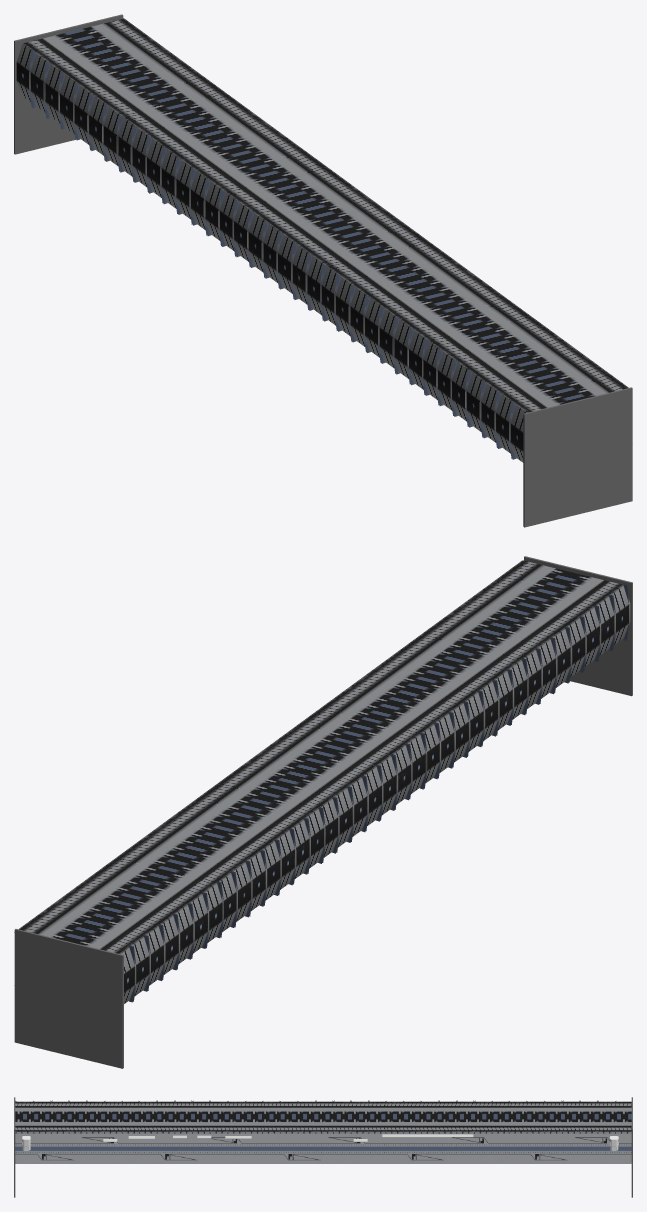
The model's file is cenario2.fbx.
3 renders of one model, top to bottom at view 1: azimuth 30°, elevation 25°; view 2: azimuth 150°, elevation 25°; view 3: azimuth 270°, elevation 25°, orthographic. The views are drawn at different scales.
Visible parts, largest first — view 1: block:block_lvl2_block_lvl2.001, block:block_lvl2_block_lvl2.002, block:block_lvl2_block_lvl2.003, block:block_lvl2_block_lvl2.004, block:block_lvl2_block_lvl2, Cube.006, Cube.007; view 2: block:block_lvl2_block_lvl2.002, block:block_lvl2_block_lvl2.003, block:block_lvl2_block_lvl2.001, block:block_lvl2_block_lvl2, block:block_lvl2_block_lvl2.004, Cube.007, Cube.006; view 3: block:block_lvl2_block_lvl2.003, block:block_lvl2_block_lvl2.004, block:block_lvl2_block_lvl2, block:block_lvl2_block_lvl2.002, block:block_lvl2_block_lvl2.001, Cube.002, Cube.006, Cube.007.
Part boxes in pixels (<box>): block:block_lvl2_block_lvl2.001: <box>321,242,530,395</box>; block:block_lvl2_block_lvl2.002: <box>118,93,327,246</box>; block:block_lvl2_block_lvl2.003: <box>220,167,429,321</box>; block:block_lvl2_block_lvl2.004: <box>16,18,225,172</box>; block:block_lvl2_block_lvl2: <box>423,316,628,462</box>; Cube.006: <box>523,387,632,527</box>; Cube.007: <box>14,14,123,154</box>; block:block_lvl2_block_lvl2.002: <box>116,783,325,931</box>; block:block_lvl2_block_lvl2.003: <box>218,709,427,857</box>; block:block_lvl2_block_lvl2.001: <box>320,634,528,782</box>; block:block_lvl2_block_lvl2: <box>421,560,630,708</box>; block:block_lvl2_block_lvl2.004: <box>14,858,223,1003</box>; Cube.007: <box>14,929,123,1068</box>; Cube.006: <box>524,556,632,696</box>; block:block_lvl2_block_lvl2.003: <box>262,1100,385,1163</box>; block:block_lvl2_block_lvl2.004: <box>508,1100,632,1163</box>; block:block_lvl2_block_lvl2: <box>15,1100,138,1163</box>; block:block_lvl2_block_lvl2.002: <box>385,1100,508,1163</box>; block:block_lvl2_block_lvl2.001: <box>138,1100,261,1163</box>; Cube.002: <box>382,1134,473,1137</box>; Cube.006: <box>14,1097,15,1197</box>; Cube.007: <box>631,1097,632,1197</box>.
Bounding box in the file's own units: 2292 × 2263 × 18519.
